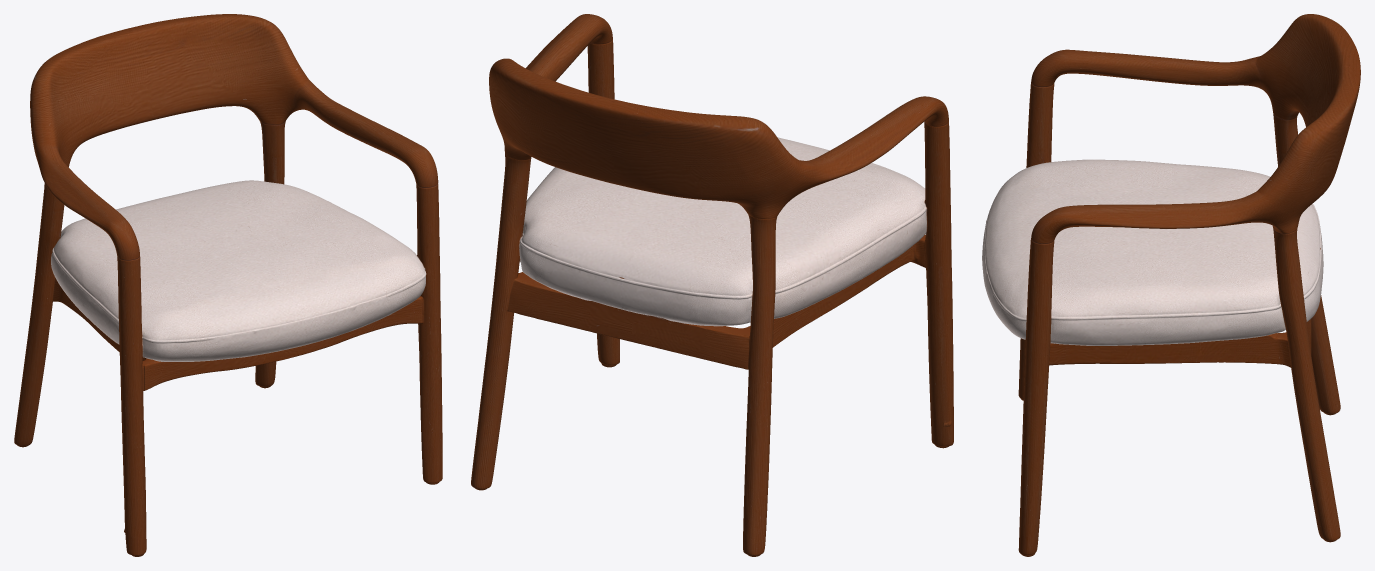
Rendered from meshy-18.glb.
3 renders of one model, left to right at view 1: azimuth 30°, elevation 25°; view 2: azimuth 150°, elevation 25°; view 3: azimuth 270°, elevation 25°, orthographic. The views are drawn at different scales.
Visible parts, largest first — view 1: RealScale; view 2: RealScale; view 3: RealScale.
Part boxes in pixels (bbox=[...]): RealScale: bbox=[14, 14, 442, 556]; RealScale: bbox=[471, 14, 953, 556]; RealScale: bbox=[982, 14, 1360, 556].
Bounding box in the file's own units: 0.6803 × 0.77 × 0.6451.
1 material, 1 textured.
